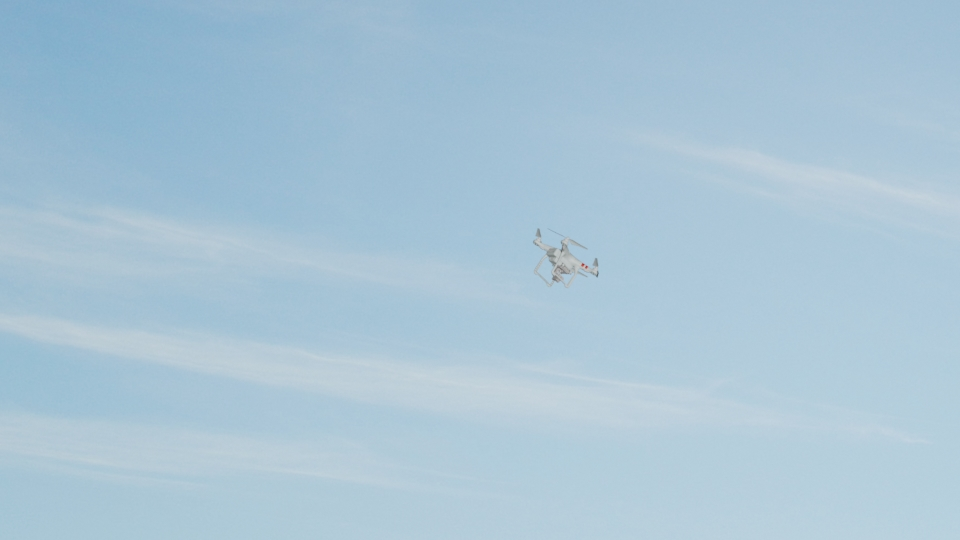drone: (527, 228, 600, 290)
